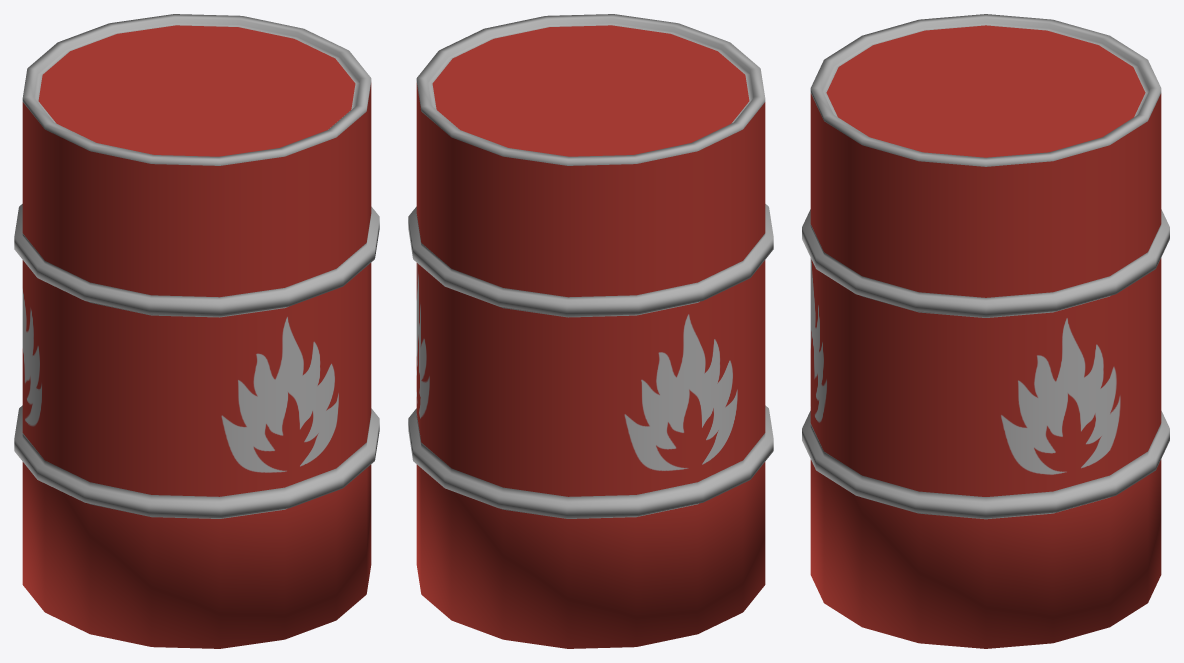
File: Explosvie.gltf
3 views of the same model, side by side, from view 1: azimuth 30°, elevation 25°; view 2: azimuth 150°, elevation 25°; view 3: azimuth 270°, elevation 25° (orthographic).
Parts seen in each view (by area): view 1: Explosive; view 2: Explosive; view 3: Explosive.
Boxes of the visible parts, box(x1,y1,x2,y2) form: Explosive: box(14, 14, 379, 648); Explosive: box(408, 14, 773, 648); Explosive: box(802, 14, 1169, 648).
Bounding box in the file's own units: 2.1 × 3.06 × 2.1.
Materials: 3 (1 with a texture image).
